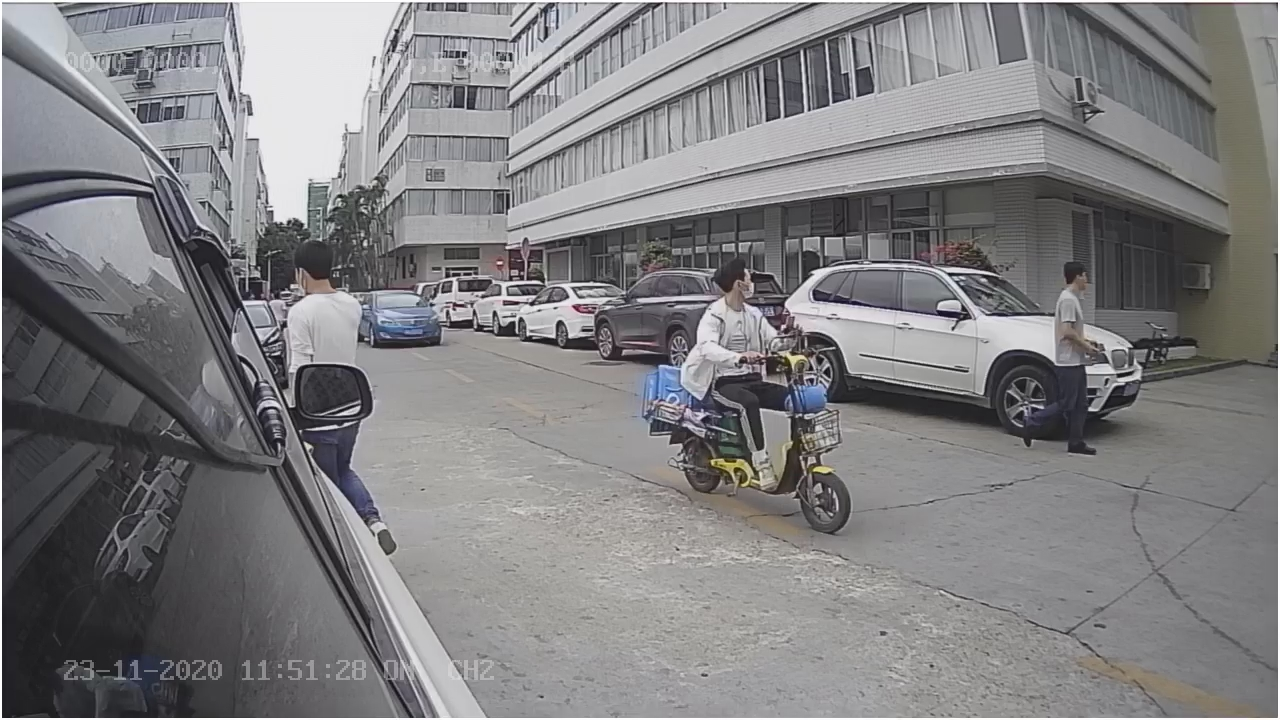person: (1014, 253, 1102, 451), (695, 248, 809, 366), (271, 238, 363, 355)
